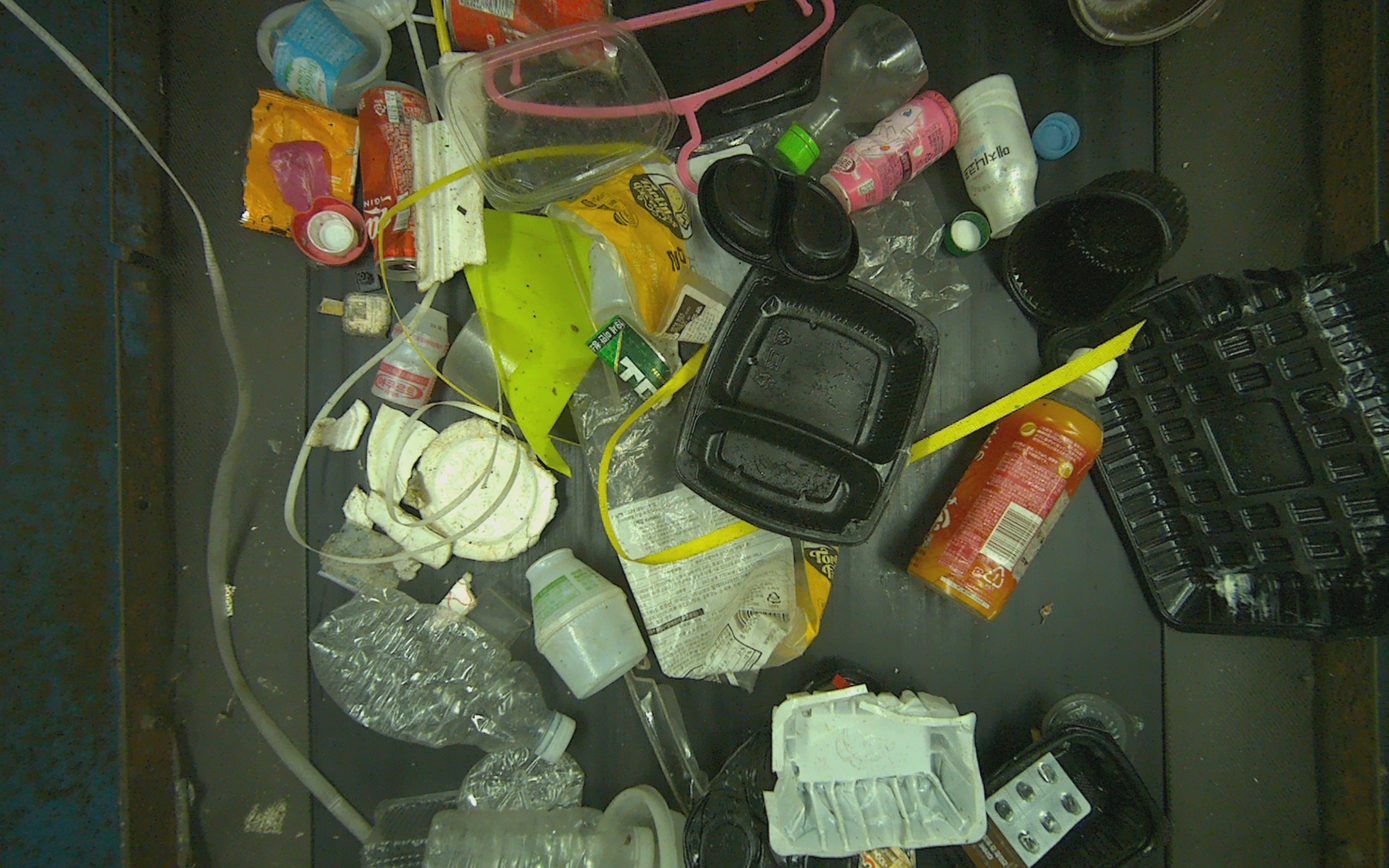PET: (909, 348, 1118, 621), (309, 582, 576, 763)
PET-C: (425, 17, 678, 211)
PP-B: (674, 265, 939, 545), (1003, 170, 1188, 325)
PS-W: (763, 684, 987, 857), (526, 549, 647, 699), (820, 91, 958, 215), (950, 75, 1038, 239), (371, 303, 450, 409)
